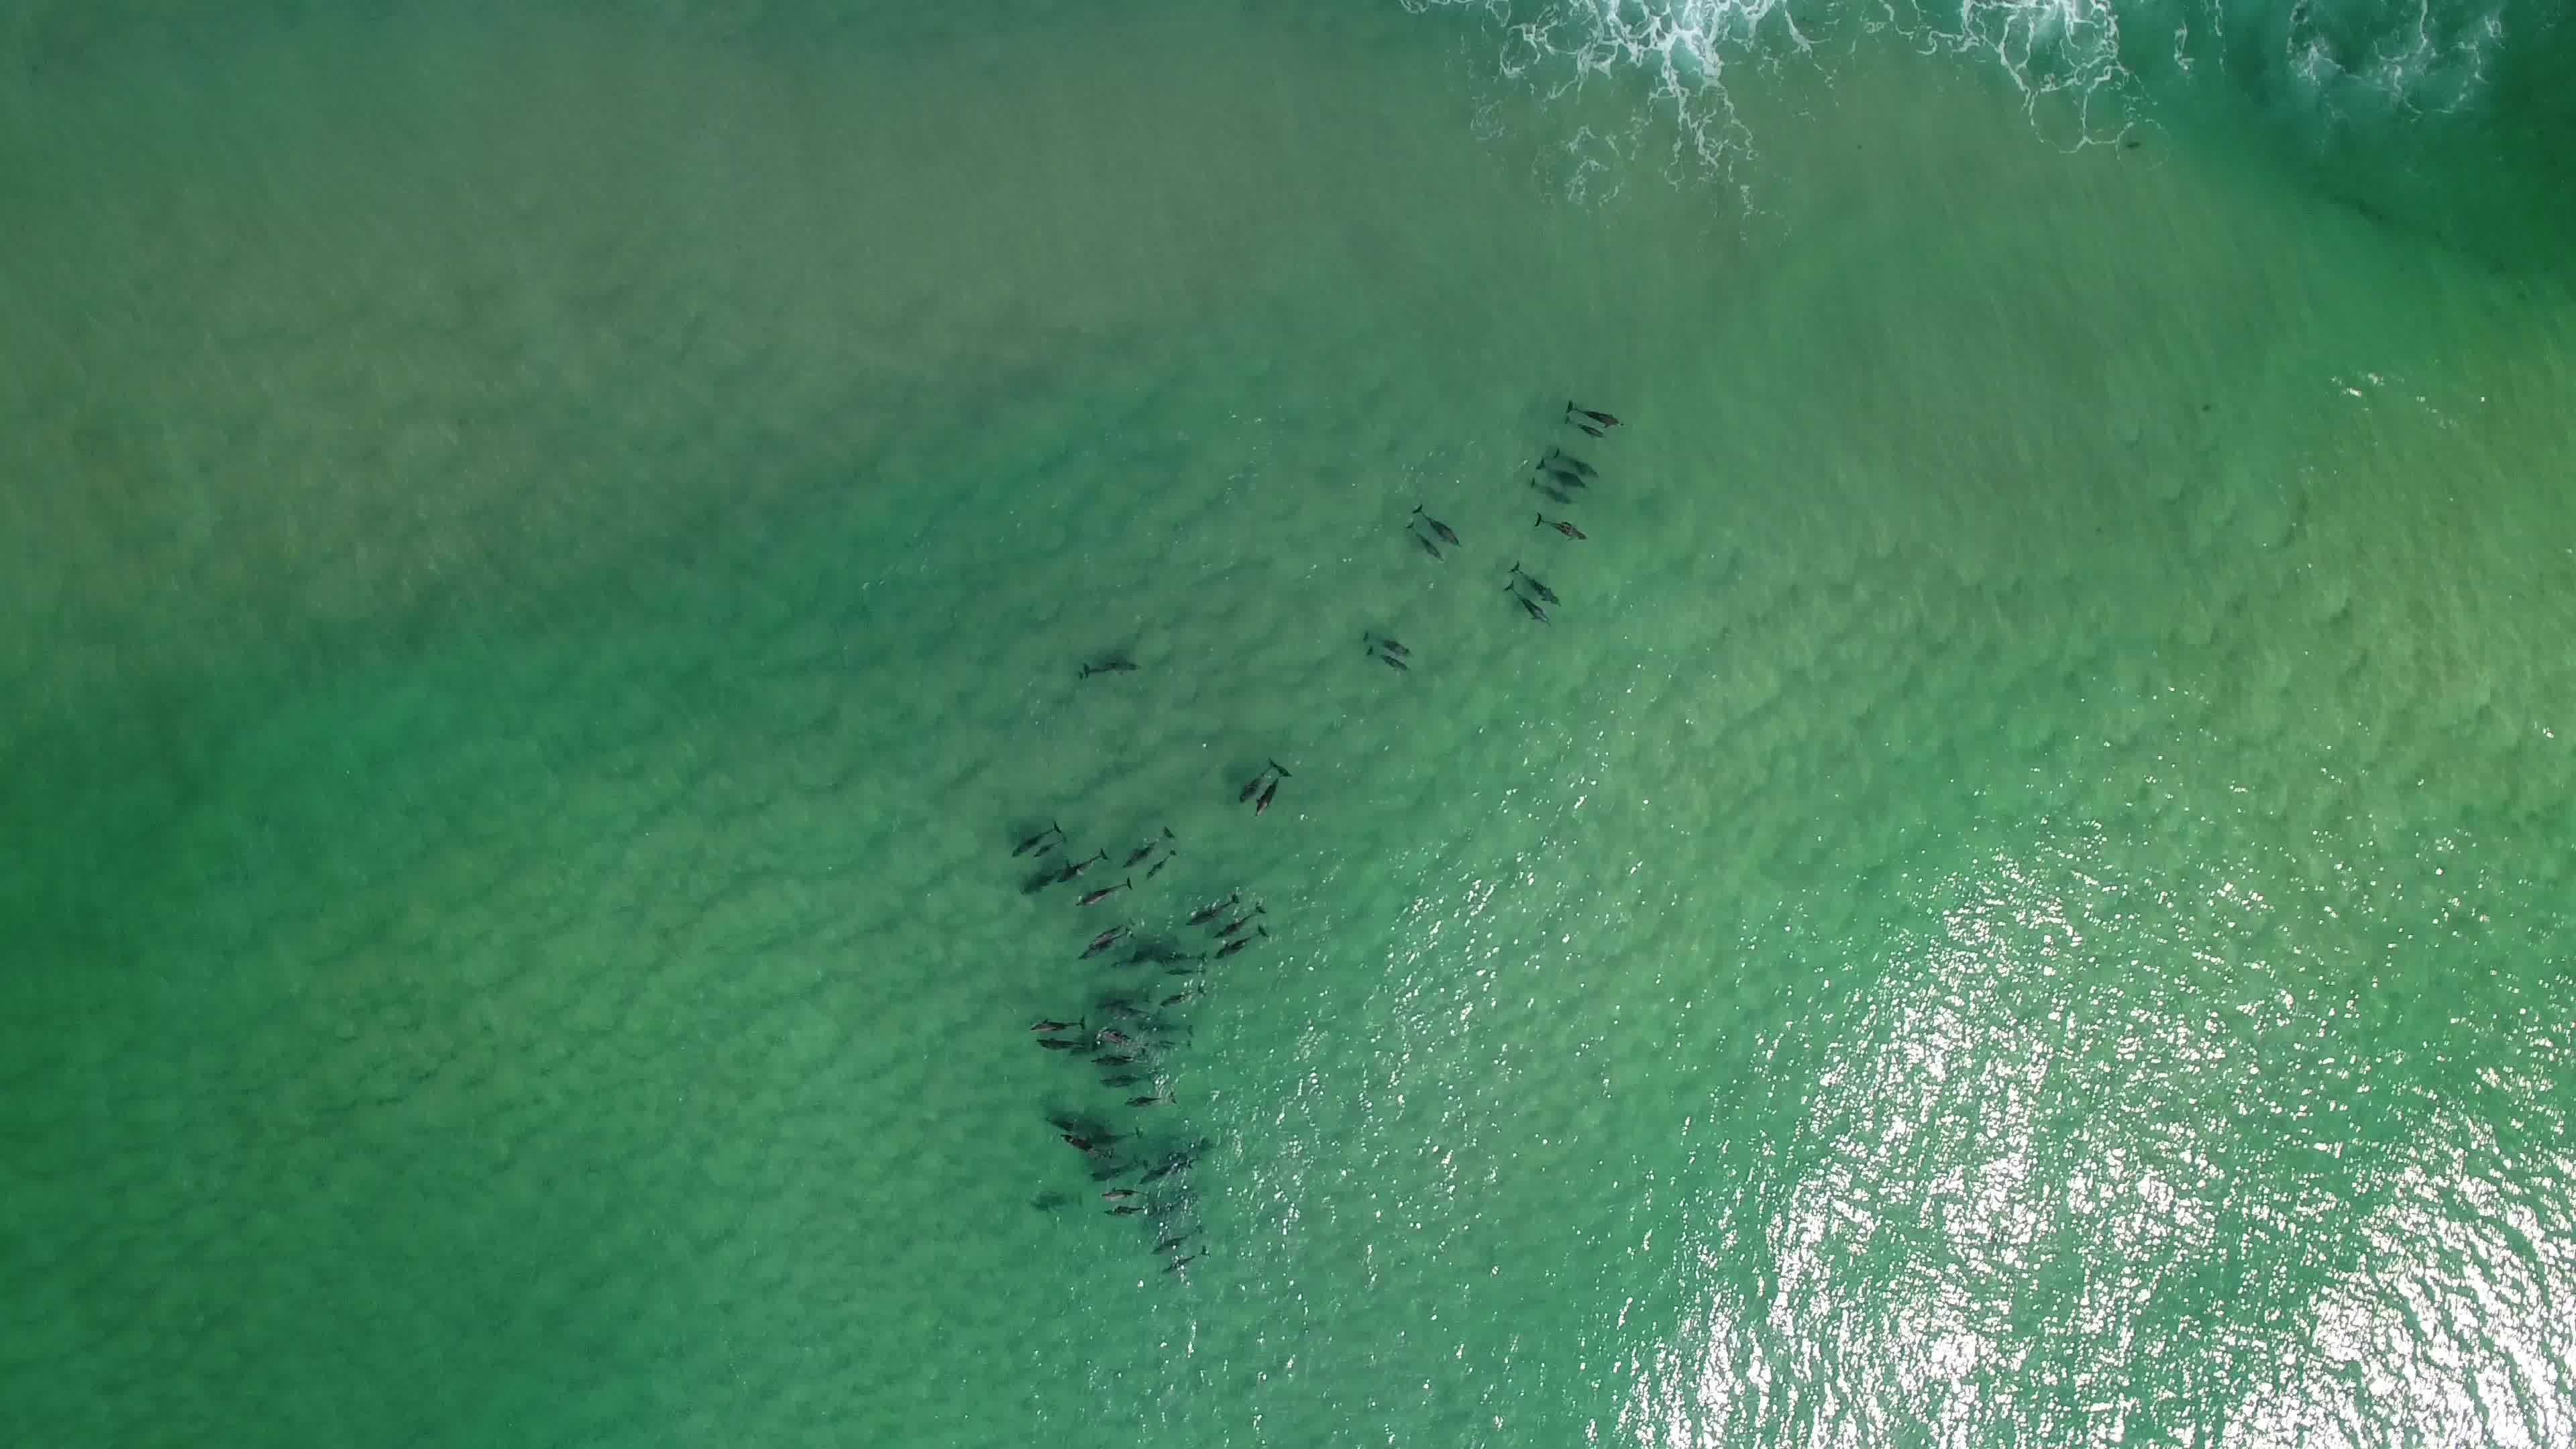dolphin: (1407, 490, 1465, 547), (1069, 646, 1145, 685), (1499, 579, 1552, 633), (1507, 557, 1566, 603), (1398, 524, 1453, 571), (1182, 883, 1246, 924), (1560, 391, 1628, 428), (1051, 1129, 1116, 1166), (1527, 508, 1591, 545), (1001, 816, 1063, 853), (1545, 439, 1603, 476), (1233, 754, 1274, 807), (1207, 922, 1277, 952), (1518, 472, 1575, 508), (1115, 824, 1171, 860), (1085, 918, 1138, 955), (1217, 895, 1265, 936), (1534, 455, 1585, 492), (1357, 644, 1408, 681), (1017, 1010, 1093, 1035), (1042, 1111, 1108, 1139), (1553, 412, 1606, 446), (1074, 881, 1139, 908), (1362, 621, 1410, 655), (1263, 757, 1286, 824), (1162, 1244, 1214, 1274), (1056, 855, 1116, 878), (1102, 1024, 1150, 1051), (1099, 996, 1152, 1019), (1092, 1049, 1154, 1069), (1161, 989, 1210, 1010), (1146, 849, 1182, 878), (1035, 1035, 1083, 1054), (1102, 1070, 1161, 1086), (1099, 1184, 1146, 1201), (1097, 1205, 1154, 1219), (1154, 1230, 1203, 1246), (1125, 1090, 1168, 1108), (1033, 839, 1074, 855)
